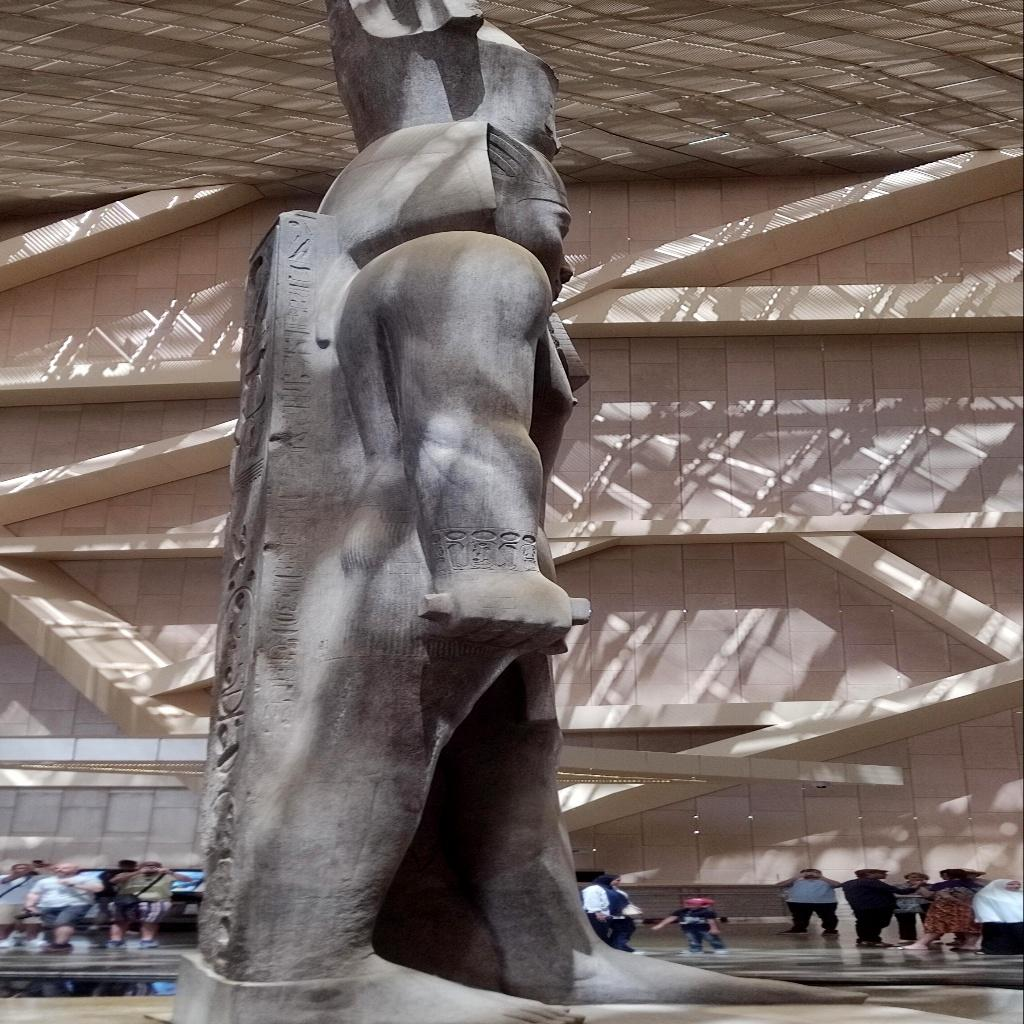Colossal Statue of Ramesses II beloved of Ptah: (172, 3, 872, 1022)
